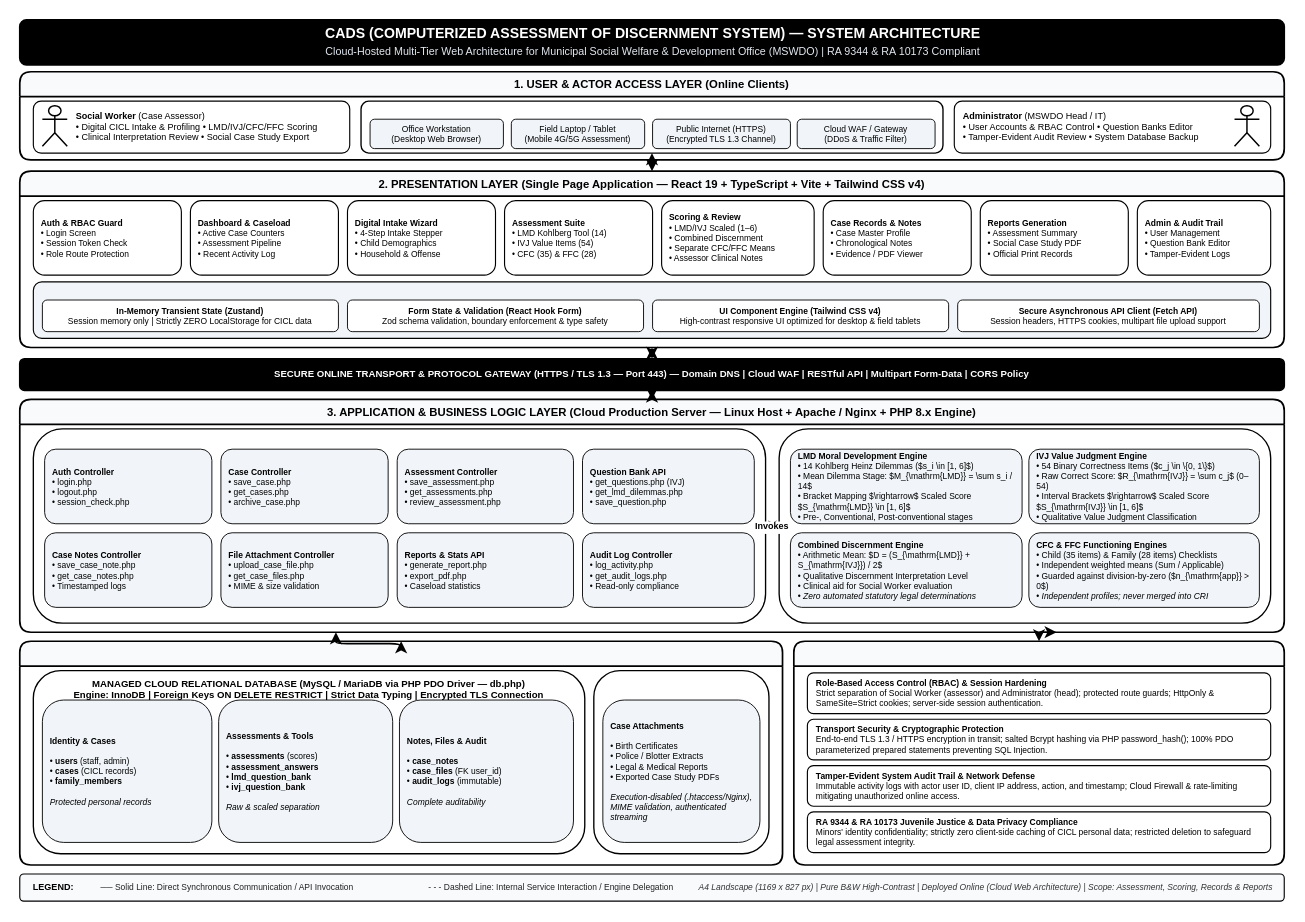
Some shapes in this 1305 by 922 pixel diagram are drawn without their labels. The shapes that lost their labels are listed below. From the top down, each one's box as (x1, y1, x2, y2) in pixels, then its label:
(360, 100, 943, 153): CLIENT DEVICES & SECURE ONLINE ACCESS CHANNELS
(32, 281, 1271, 338): CLIENT-SIDE RUNTIME & DATA SERVICES
(32, 428, 766, 623): PRODUCTION RESTful API CONTROLLERS & SERVICES (/api/*.php)
(778, 428, 1271, 623): RULE-BASED ASSESSMENT SCORING & INTERPRETATION ENGINES
(18, 640, 783, 865): 4. DATA PERSISTENCE & CLOUD STORAGE LAYER
(593, 669, 769, 854): SECURED CLOUD STORAGE (/uploads/case_files/)
(792, 640, 1285, 865): 5. SECURITY, AUDIT & CLOUD HARDENING
